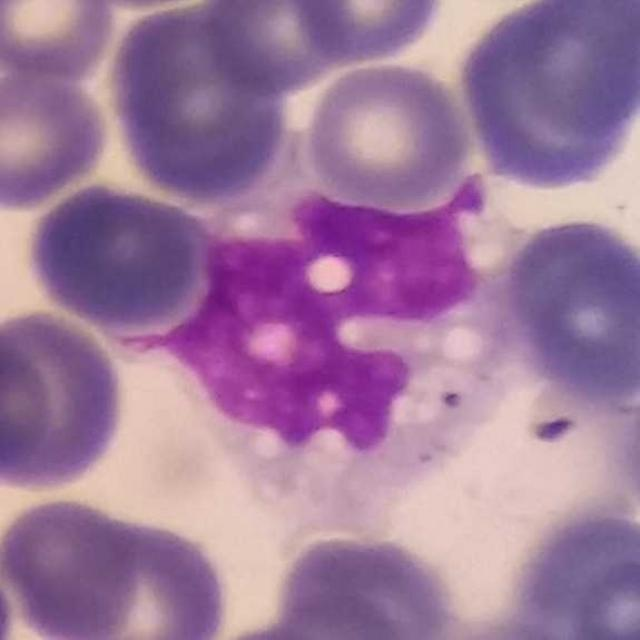Basophil: (451, 0, 640, 197)
Monocyte: (163, 125, 526, 529)
RBC: (103, 4, 300, 210), (452, 1, 640, 197), (21, 178, 213, 336), (496, 210, 640, 416), (300, 56, 477, 212), (43, 501, 236, 640), (0, 303, 131, 495), (266, 526, 464, 640), (0, 493, 145, 640), (491, 502, 640, 640), (0, 68, 114, 211), (198, 0, 354, 96), (286, 0, 451, 67), (182, 600, 436, 640), (0, 0, 119, 83), (0, 315, 56, 489), (1, 8, 42, 127), (614, 372, 640, 538), (67, 0, 240, 13)
